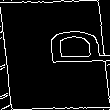P_W: (1, 35, 109, 75)
